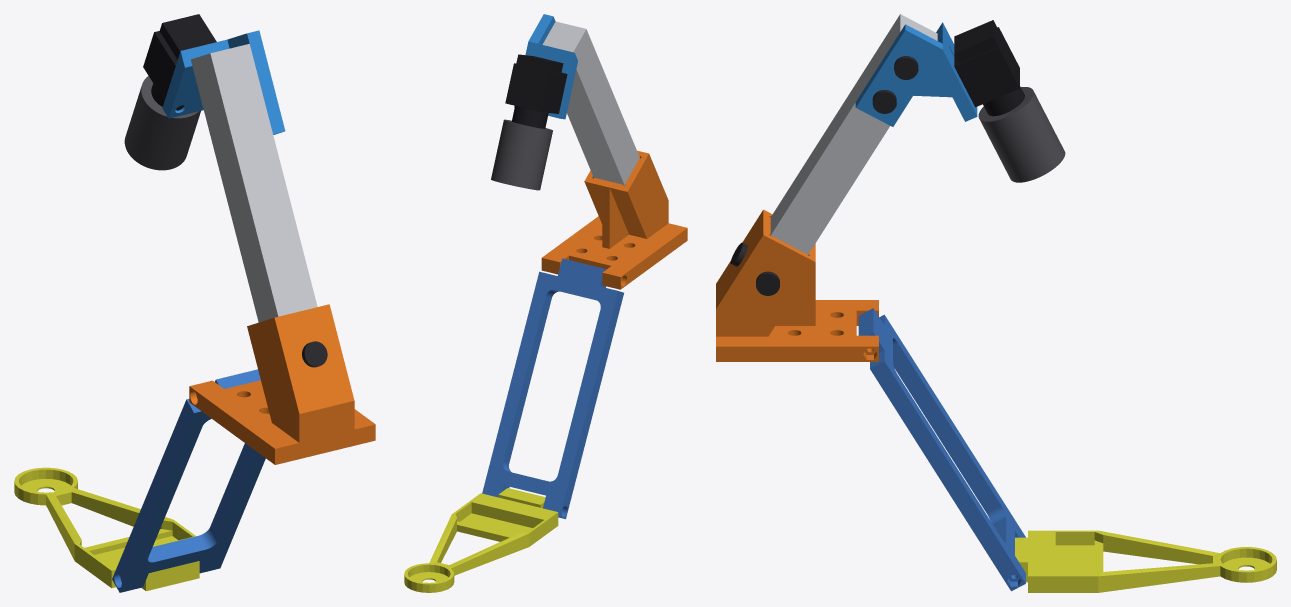
Rendered from camera_mount_assembly.glb.
3 views of the same model, side by side, from view 1: azimuth 30°, elevation 25°; view 2: azimuth 150°, elevation 25°; view 3: azimuth 270°, elevation 25° (orthographic). The views are drawn at different scales.
Visible parts, largest first — view 1: mast_1010, carriage_plate, link1, xrite_i1_plate, lens_placeholder, camera_bracket, basler_ace_placeholder, clamp_screw_outer; view 2: link1, carriage_plate, xrite_i1_plate, mast_1010, basler_ace_placeholder, lens_placeholder, camera_bracket; view 3: carriage_plate, link1, xrite_i1_plate, mast_1010, camera_bracket, lens_placeholder, basler_ace_placeholder.
Boxes of the visible parts, x1,y1,x2,y2 form: mast_1010: [190, 44, 317, 322]; carriage_plate: [189, 304, 375, 464]; link1: [112, 369, 265, 592]; xrite_i1_plate: [14, 467, 199, 591]; lens_placeholder: [124, 76, 200, 170]; camera_bracket: [162, 30, 285, 134]; basler_ace_placeholder: [143, 14, 216, 106]; clamp_screw_outer: [302, 341, 327, 367]; link1: [482, 258, 623, 519]; carriage_plate: [541, 150, 687, 289]; xrite_i1_plate: [404, 488, 558, 592]; mast_1010: [542, 21, 639, 186]; basler_ace_placeholder: [505, 54, 567, 128]; lens_placeholder: [491, 119, 552, 190]; camera_bracket: [514, 14, 577, 119]; carriage_plate: [716, 209, 878, 361]; link1: [858, 308, 1025, 591]; xrite_i1_plate: [1015, 530, 1276, 592]; mast_1010: [770, 14, 937, 254]; camera_bracket: [855, 22, 977, 126]; lens_placeholder: [978, 87, 1065, 182]; basler_ace_placeholder: [954, 20, 1024, 116].
Size of the model in its own units: 65 by 361 by 330.
